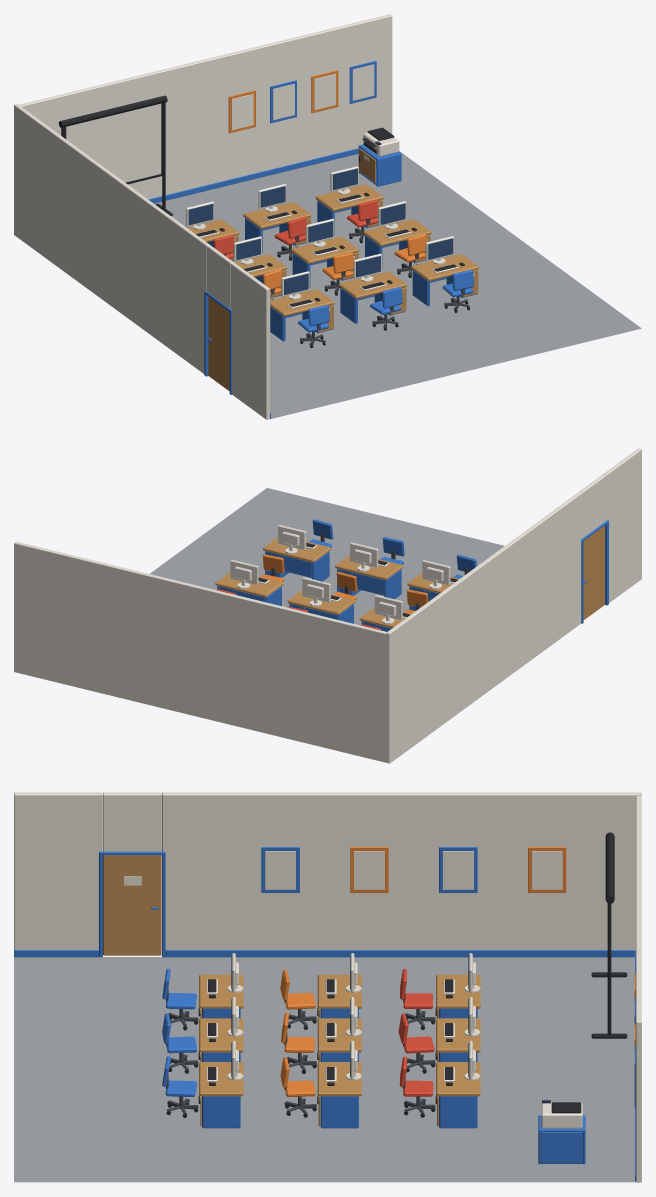
The model's file is school-computer-lab.glb.
The picture shows the model from 3 angles, top to bottom: view 1: azimuth 30°, elevation 25°; view 2: azimuth 150°, elevation 25°; view 3: azimuth 270°, elevation 25°; orthographic projection. The views are drawn at different scales.
Parts seen in each view (by area): view 1: Lab_Room_Shell, ProjectorScreen_Body, Desk_09_Body, Desk_08_Body, Desk_07_Body, Desk_05_Body, Desk_02_Body, Desk_06_Body, Desk_03_Body, Lab_Room_Door, Printer_Body, Desk_04_Body (+8 smaller); view 2: Lab_Room_Shell, Desk_09_Body, Desk_08_Body, Desk_06_Body, Desk_05_Body, Lab_Room_Door, Desk_07_Body, Desk_04_Body, Chair_08_Seat, Chair_06_Seat; view 3: Lab_Room_Shell, Lab_Room_Door, Desk_09_Body, Desk_03_Body, Desk_06_Body, Printer_Body, Desk_07_Body, Desk_01_Body, Desk_04_Body, Desk_02_Body, Desk_08_Body, Desk_05_Body (+10 smaller).
Boxes of the visible parts, <box> form: Lab_Room_Shell: <box>14,14,641,419</box>; ProjectorScreen_Body: <box>58,95,172,215</box>; Desk_09_Body: <box>411,236,479,306</box>; Desk_08_Body: <box>338,253,406,323</box>; Desk_07_Body: <box>270,271,334,341</box>; Desk_05_Body: <box>291,218,359,287</box>; Desk_02_Body: <box>243,184,311,252</box>; Desk_06_Body: <box>363,201,431,269</box>; Desk_03_Body: <box>315,166,383,235</box>; Lab_Room_Door: <box>207,296,229,391</box>; Printer_Body: <box>358,132,401,186</box>; Desk_04_Body: <box>233,236,286,298</box>; Lab_Room_Shell: <box>14,448,641,763</box>; Desk_09_Body: <box>263,524,331,581</box>; Desk_08_Body: <box>335,542,403,599</box>; Desk_06_Body: <box>215,559,283,606</box>; Desk_05_Body: <box>287,577,355,623</box>; Lab_Room_Door: <box>583,525,604,619</box>; Desk_07_Body: <box>407,560,459,610</box>; Desk_04_Body: <box>359,595,411,631</box>; Chair_08_Seat: <box>380,537,404,564</box>; Chair_06_Seat: <box>261,554,284,581</box>; Lab_Room_Shell: <box>14,792,641,1182</box>; Lab_Room_Door: <box>103,855,161,955</box>; Desk_09_Body: <box>199,1040,243,1128</box>; Desk_03_Body: <box>436,1040,480,1128</box>; Desk_06_Body: <box>317,1040,361,1128</box>; Printer_Body: <box>538,1099,585,1164</box>; Desk_07_Body: <box>199,953,243,1018</box>; Desk_01_Body: <box>436,953,480,1018</box>; Desk_04_Body: <box>317,953,361,1018</box>; Desk_02_Body: <box>436,997,480,1061</box>; Desk_08_Body: <box>199,997,243,1061</box>; Desk_05_Body: <box>317,997,361,1061</box>.
Size of the model in its own units: 36.61 by 12.1 by 42.4.
